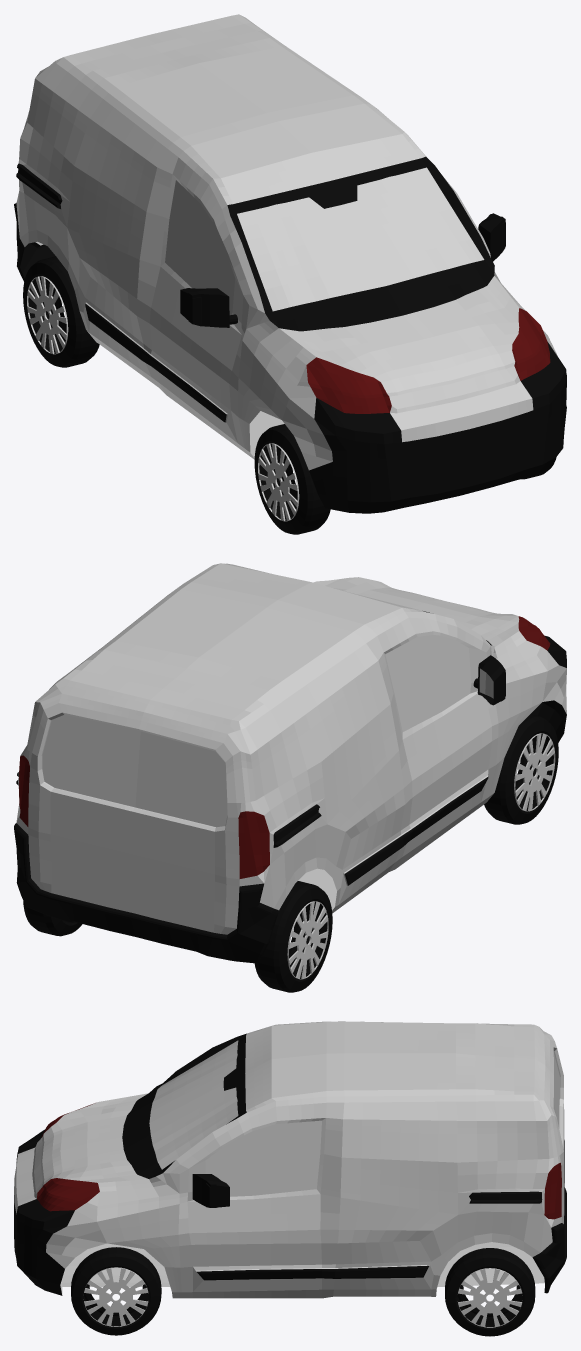
Rendered from Furgoncino.obj.
The picture shows the model from 3 angles, top to bottom: view 1: azimuth 30°, elevation 25°; view 2: azimuth 150°, elevation 25°; view 3: azimuth 270°, elevation 25°; orthographic projection. The views are drawn at different scales.
Parts seen in each view (by area): view 1: Cube; view 2: Cube; view 3: Cube.
Part boxes in pixels (x1,y1,x2,y2): Cube: (14,14,566,534); Cube: (14,563,566,992); Cube: (14,1021,566,1336).
Size of the model in its own units: 3.85 by 3.36 by 7.2.
